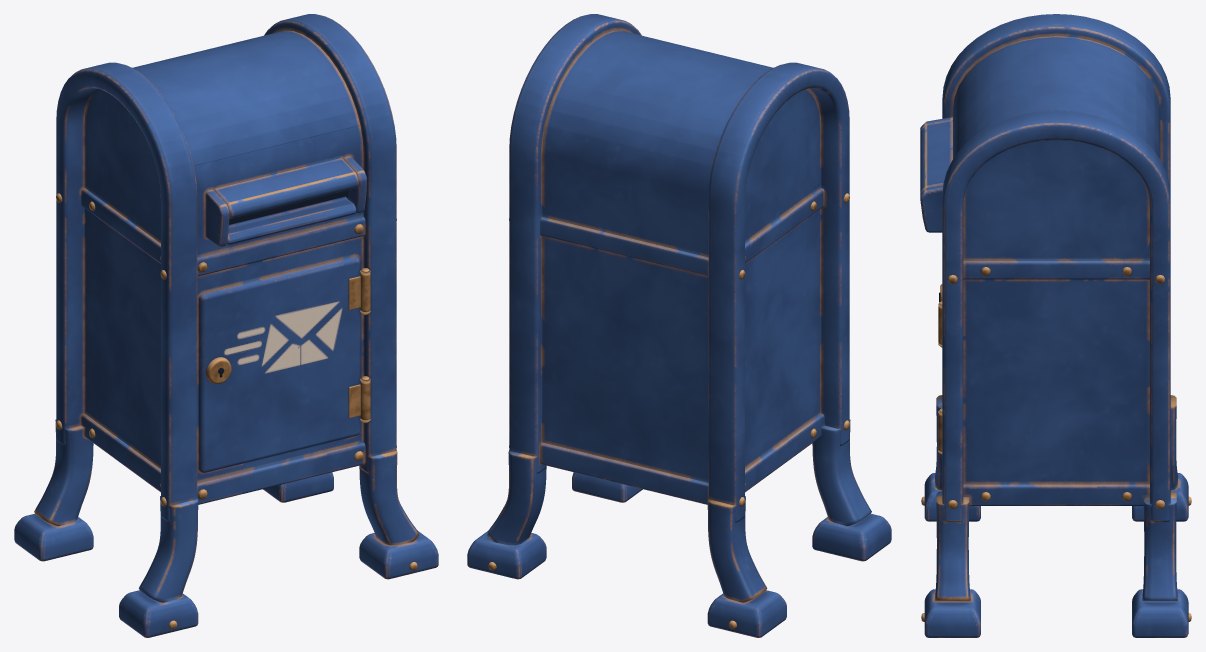
The model's file is mailbox.glb.
3 views of the same model, side by side, from view 1: azimuth 30°, elevation 25°; view 2: azimuth 150°, elevation 25°; view 3: azimuth 270°, elevation 25° (orthographic).
Visible parts, largest first — view 1: model; view 2: model; view 3: model.
Part boxes in pixels (<box>): model: <box>14,14,438,637</box>; model: <box>467,14,891,637</box>; model: <box>920,14,1191,637</box>.
Size of the model in its own units: 0.716 by 1.17 by 0.5762.
3 materials, 2 textured.
